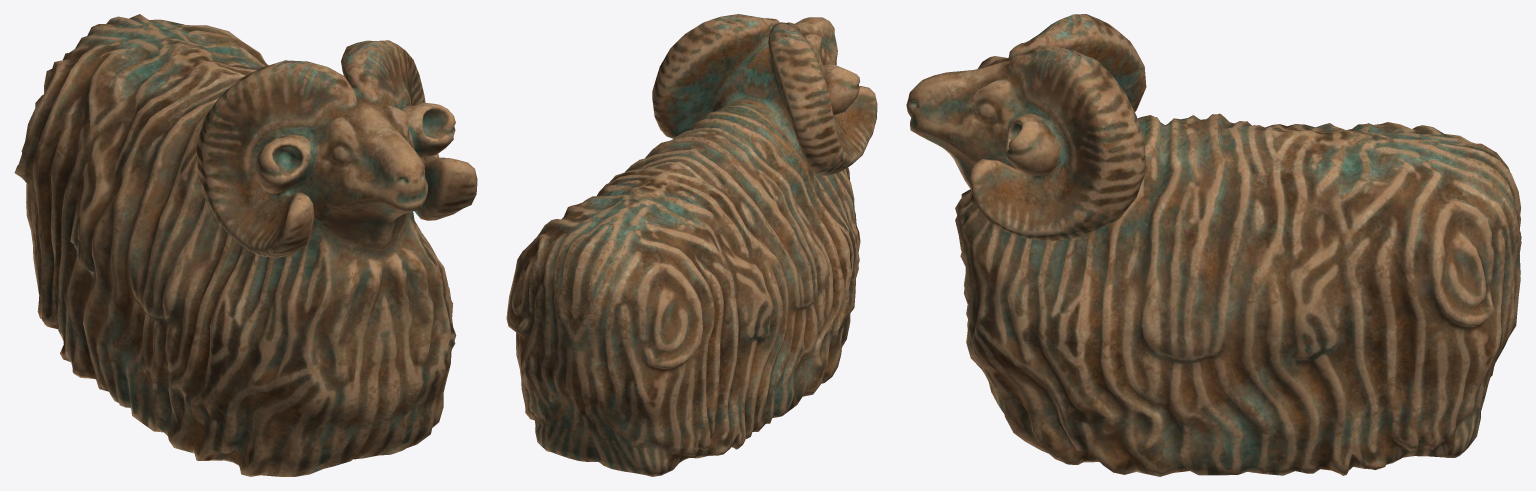
File: garden_ram_bronze_statue_b26fd36b.fbx
3 renders of one model, left to right at view 1: azimuth 30°, elevation 25°; view 2: azimuth 150°, elevation 25°; view 3: azimuth 270°, elevation 25°, orthographic. The views are drawn at different scales.
Parts seen in each view (by area): view 1: garden_ram_bronze_statue_b26fd36b; view 2: garden_ram_bronze_statue_b26fd36b; view 3: garden_ram_bronze_statue_b26fd36b.
Boxes of the visible parts, bbox=[...] form: garden_ram_bronze_statue_b26fd36b: bbox=[14, 14, 477, 476]; garden_ram_bronze_statue_b26fd36b: bbox=[506, 14, 877, 476]; garden_ram_bronze_statue_b26fd36b: bbox=[906, 14, 1521, 476].
Size of the model in its own units: 0.6987 by 1 by 1.44.
Materials: 1 (1 with a texture image).
